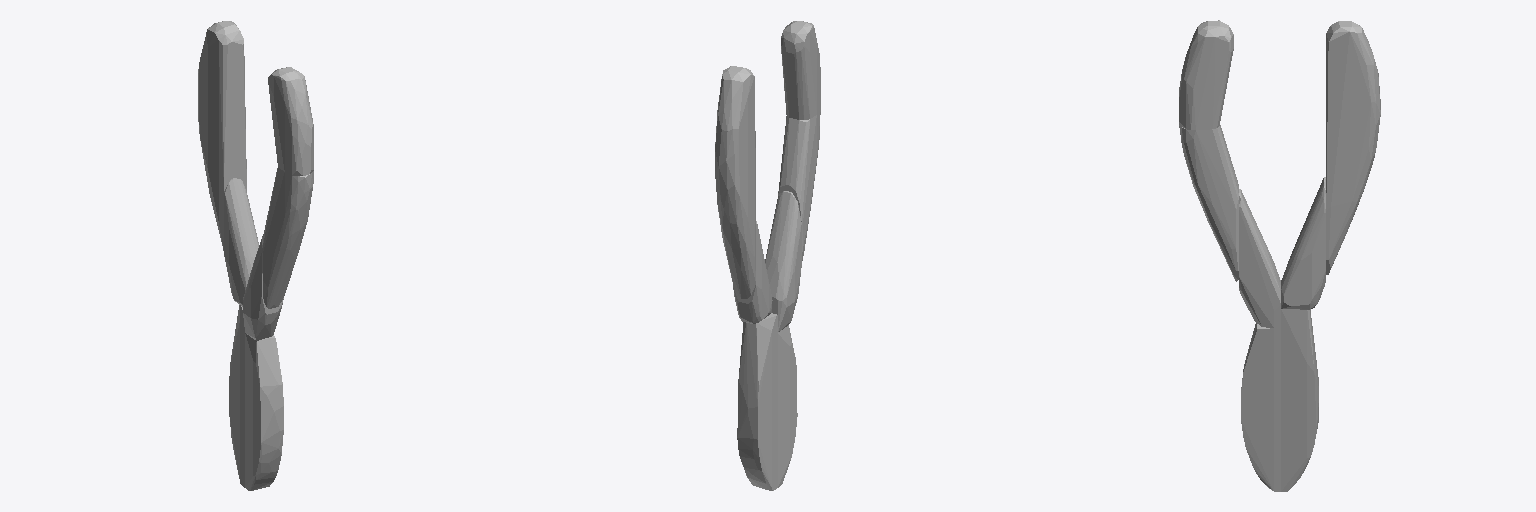
The robot description file, URDF, robot "root":
<robot name="root">
  <link name="link_pliers_standard_convex_piece_0">
    <inertial>
      <origin rpy="0 0 0" xyz="0 0 0"/>
      <mass value="-2.24E-06"/>
      <inertia ixx="-3.24E-09" ixy="9.28E-12" ixz="1.96E-11" iyy="-2.69E-09" iyz="-1.13E-09" izz="-5.65E-10"/>
    </inertial>
    <visual>
      <origin rpy="0 0 0" xyz="0 0 0"/>
      <geometry>
        <mesh filename="pliers_standard_convex_piece_0.obj" scale="1.0000E+00"/>
      </geometry>
      <material name="">
        <color rgba="7.50E-01 7.50E-01 7.50E-01 1"/>
      </material>
    </visual>
    <collision>
      <origin rpy="0 0 0" xyz="0 0 0"/>
      <geometry>
        <mesh filename="pliers_standard_convex_piece_0.obj" scale="1.0000E+00"/>
      </geometry>
    </collision>
  </link>
  <link name="link_pliers_standard_convex_piece_1">
    <inertial>
      <origin rpy="0 0 0" xyz="0 0 0"/>
      <mass value="-1.16E-06"/>
      <inertia ixx="-7.02E-10" ixy="3.54E-12" ixz="-6.13E-12" iyy="-4.44E-10" iyz="3.26E-10" izz="-2.66E-10"/>
    </inertial>
    <visual>
      <origin rpy="0 0 0" xyz="0 0 0"/>
      <geometry>
        <mesh filename="pliers_standard_convex_piece_1.obj" scale="1.0000E+00"/>
      </geometry>
      <material name="">
        <color rgba="7.50E-01 7.50E-01 7.50E-01 1"/>
      </material>
    </visual>
    <collision>
      <origin rpy="0 0 0" xyz="0 0 0"/>
      <geometry>
        <mesh filename="pliers_standard_convex_piece_1.obj" scale="1.0000E+00"/>
      </geometry>
    </collision>
  </link>
  <joint name="link_pliers_standard_convex_piece_1_joint" type="fixed">
    <origin rpy="0 0 0" xyz="0 0 0"/>
    <parent link="link_pliers_standard_convex_piece_0"/>
    <child link="link_pliers_standard_convex_piece_1"/>
  </joint>
  <link name="link_pliers_standard_convex_piece_2">
    <inertial>
      <origin rpy="0 0 0" xyz="0 0 0"/>
      <mass value="-9.63E-07"/>
      <inertia ixx="-2.24E-09" ixy="6.93E-12" ixz="-1.59E-11" iyy="-1.97E-09" iyz="7.14E-10" izz="-2.78E-10"/>
    </inertial>
    <visual>
      <origin rpy="0 0 0" xyz="0 0 0"/>
      <geometry>
        <mesh filename="pliers_standard_convex_piece_2.obj" scale="1.0000E+00"/>
      </geometry>
      <material name="">
        <color rgba="7.50E-01 7.50E-01 7.50E-01 1"/>
      </material>
    </visual>
    <collision>
      <origin rpy="0 0 0" xyz="0 0 0"/>
      <geometry>
        <mesh filename="pliers_standard_convex_piece_2.obj" scale="1.0000E+00"/>
      </geometry>
    </collision>
  </link>
  <joint name="link_pliers_standard_convex_piece_2_joint" type="fixed">
    <origin rpy="0 0 0" xyz="0 0 0"/>
    <parent link="link_pliers_standard_convex_piece_1"/>
    <child link="link_pliers_standard_convex_piece_2"/>
  </joint>
  <link name="link_pliers_standard_convex_piece_3">
    <inertial>
      <origin rpy="0 0 0" xyz="0 0 0"/>
      <mass value="-1.21E-06"/>
      <inertia ixx="-1.75E-09" ixy="-7.60E-13" ixz="-4.10E-12" iyy="-1.74E-09" iyz="-1.56E-10" izz="-2.58E-11"/>
    </inertial>
    <visual>
      <origin rpy="0 0 0" xyz="0 0 0"/>
      <geometry>
        <mesh filename="pliers_standard_convex_piece_3.obj" scale="1.0000E+00"/>
      </geometry>
      <material name="">
        <color rgba="7.50E-01 7.50E-01 7.50E-01 1"/>
      </material>
    </visual>
    <collision>
      <origin rpy="0 0 0" xyz="0 0 0"/>
      <geometry>
        <mesh filename="pliers_standard_convex_piece_3.obj" scale="1.0000E+00"/>
      </geometry>
    </collision>
  </link>
  <joint name="link_pliers_standard_convex_piece_3_joint" type="fixed">
    <origin rpy="0 0 0" xyz="0 0 0"/>
    <parent link="link_pliers_standard_convex_piece_2"/>
    <child link="link_pliers_standard_convex_piece_3"/>
  </joint>
  <link name="link_pliers_standard_convex_piece_4">
    <inertial>
      <origin rpy="0 0 0" xyz="0 0 0"/>
      <mass value="-8.34E-07"/>
      <inertia ixx="-6.71E-11" ixy="-2.73E-12" ixz="-2.00E-12" iyy="-4.32E-11" iyz="-8.82E-12" izz="-3.06E-11"/>
    </inertial>
    <visual>
      <origin rpy="0 0 0" xyz="0 0 0"/>
      <geometry>
        <mesh filename="pliers_standard_convex_piece_4.obj" scale="1.0000E+00"/>
      </geometry>
      <material name="">
        <color rgba="7.50E-01 7.50E-01 7.50E-01 1"/>
      </material>
    </visual>
    <collision>
      <origin rpy="0 0 0" xyz="0 0 0"/>
      <geometry>
        <mesh filename="pliers_standard_convex_piece_4.obj" scale="1.0000E+00"/>
      </geometry>
    </collision>
  </link>
  <joint name="link_pliers_standard_convex_piece_4_joint" type="fixed">
    <origin rpy="0 0 0" xyz="0 0 0"/>
    <parent link="link_pliers_standard_convex_piece_3"/>
    <child link="link_pliers_standard_convex_piece_4"/>
  </joint>
  <link name="link_pliers_standard_convex_piece_5">
    <inertial>
      <origin rpy="0 0 0" xyz="0 0 0"/>
      <mass value="-1.29E-06"/>
      <inertia ixx="-1.68E-09" ixy="-2.21E-12" ixz="1.52E-11" iyy="-1.66E-09" iyz="1.76E-10" izz="-3.14E-11"/>
    </inertial>
    <visual>
      <origin rpy="0 0 0" xyz="0 0 0"/>
      <geometry>
        <mesh filename="pliers_standard_convex_piece_5.obj" scale="1.0000E+00"/>
      </geometry>
      <material name="">
        <color rgba="7.50E-01 7.50E-01 7.50E-01 1"/>
      </material>
    </visual>
    <collision>
      <origin rpy="0 0 0" xyz="0 0 0"/>
      <geometry>
        <mesh filename="pliers_standard_convex_piece_5.obj" scale="1.0000E+00"/>
      </geometry>
    </collision>
  </link>
  <joint name="link_pliers_standard_convex_piece_5_joint" type="fixed">
    <origin rpy="0 0 0" xyz="0 0 0"/>
    <parent link="link_pliers_standard_convex_piece_4"/>
    <child link="link_pliers_standard_convex_piece_5"/>
  </joint>
  <link name="link_pliers_standard_convex_piece_6">
    <inertial>
      <origin rpy="0 0 0" xyz="0 0 0"/>
      <mass value="-7.51E-07"/>
      <inertia ixx="-5.73E-11" ixy="-3.18E-12" ixz="1.68E-12" iyy="-2.28E-11" iyz="-3.91E-12" izz="-4.02E-11"/>
    </inertial>
    <visual>
      <origin rpy="0 0 0" xyz="0 0 0"/>
      <geometry>
        <mesh filename="pliers_standard_convex_piece_6.obj" scale="1.0000E+00"/>
      </geometry>
      <material name="">
        <color rgba="7.50E-01 7.50E-01 7.50E-01 1"/>
      </material>
    </visual>
    <collision>
      <origin rpy="0 0 0" xyz="0 0 0"/>
      <geometry>
        <mesh filename="pliers_standard_convex_piece_6.obj" scale="1.0000E+00"/>
      </geometry>
    </collision>
  </link>
  <joint name="link_pliers_standard_convex_piece_6_joint" type="fixed">
    <origin rpy="0 0 0" xyz="0 0 0"/>
    <parent link="link_pliers_standard_convex_piece_5"/>
    <child link="link_pliers_standard_convex_piece_6"/>
  </joint>
</robot>

--- Render facts (derived) ---
3 views of the same robot in one strip: view 1: azimuth 30°, elevation 25°; view 2: azimuth 150°, elevation 25°; view 3: azimuth 270°, elevation 25° (orthographic).
Robot: root — 7 links, 6 joints (6 fixed); root link link_pliers_standard_convex_piece_0; default pose: every joint at zero.
Links seen in each view (by area): view 1: link_pliers_standard_convex_piece_0, link_pliers_standard_convex_piece_3, link_pliers_standard_convex_piece_1, link_pliers_standard_convex_piece_2, link_pliers_standard_convex_piece_6, link_pliers_standard_convex_piece_5, link_pliers_standard_convex_piece_4; view 2: link_pliers_standard_convex_piece_0, link_pliers_standard_convex_piece_5, link_pliers_standard_convex_piece_4, link_pliers_standard_convex_piece_2, link_pliers_standard_convex_piece_1, link_pliers_standard_convex_piece_3, link_pliers_standard_convex_piece_6; view 3: link_pliers_standard_convex_piece_0, link_pliers_standard_convex_piece_5, link_pliers_standard_convex_piece_3, link_pliers_standard_convex_piece_1, link_pliers_standard_convex_piece_2, link_pliers_standard_convex_piece_4, link_pliers_standard_convex_piece_6.
Link boxes in pixels (bbox=[...]): link_pliers_standard_convex_piece_0: bbox=[198, 21, 246, 250]; link_pliers_standard_convex_piece_3: bbox=[245, 333, 283, 490]; link_pliers_standard_convex_piece_1: bbox=[262, 167, 313, 308]; link_pliers_standard_convex_piece_2: bbox=[268, 67, 313, 175]; link_pliers_standard_convex_piece_6: bbox=[224, 178, 258, 306]; link_pliers_standard_convex_piece_5: bbox=[229, 305, 244, 487]; link_pliers_standard_convex_piece_4: bbox=[243, 234, 283, 340]; link_pliers_standard_convex_piece_0: bbox=[715, 66, 755, 298]; link_pliers_standard_convex_piece_5: bbox=[737, 313, 777, 490]; link_pliers_standard_convex_piece_4: bbox=[765, 191, 801, 331]; link_pliers_standard_convex_piece_2: bbox=[781, 21, 820, 119]; link_pliers_standard_convex_piece_1: bbox=[778, 110, 820, 260]; link_pliers_standard_convex_piece_3: bbox=[778, 325, 797, 487]; link_pliers_standard_convex_piece_6: bbox=[733, 221, 772, 323]; link_pliers_standard_convex_piece_0: bbox=[1326, 21, 1380, 274]; link_pliers_standard_convex_piece_5: bbox=[1281, 309, 1318, 491]; link_pliers_standard_convex_piece_3: bbox=[1241, 323, 1280, 491]; link_pliers_standard_convex_piece_1: bbox=[1179, 125, 1238, 281]; link_pliers_standard_convex_piece_2: bbox=[1179, 20, 1233, 129]; link_pliers_standard_convex_piece_4: bbox=[1239, 189, 1280, 327]; link_pliers_standard_convex_piece_6: bbox=[1281, 177, 1325, 309].
Size in the robot's own frame: 0.0086 by 0.0457 by 0.1155 metres.
Meshes: 7 distinct files referenced, 7 mesh visuals loaded (7 OBJ).